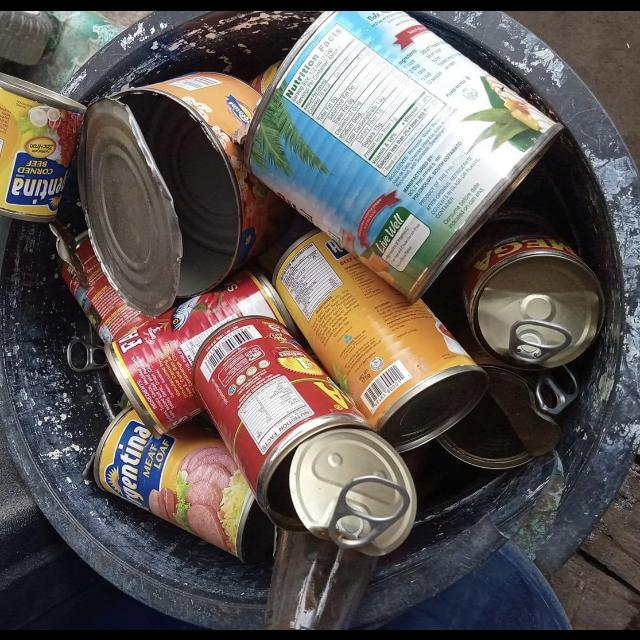aluminum: (244, 10, 564, 304), (192, 315, 417, 558), (77, 72, 290, 317), (271, 229, 490, 454), (104, 266, 310, 436), (92, 407, 274, 564), (461, 201, 605, 370), (438, 328, 579, 470), (0, 71, 90, 290)
